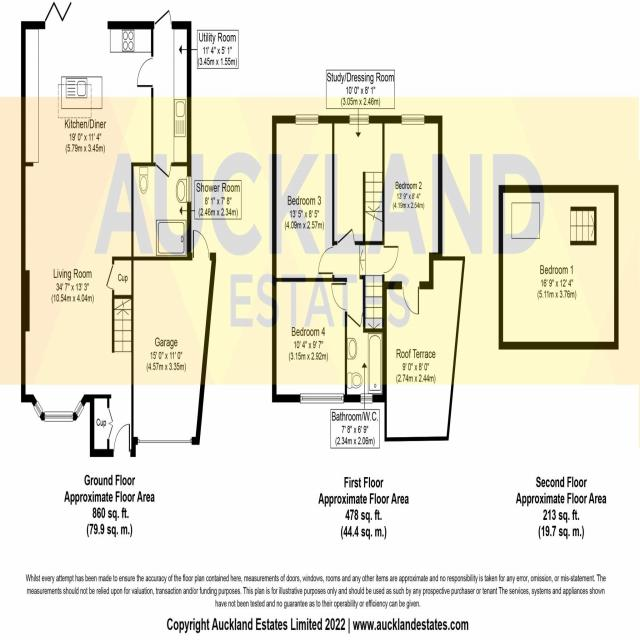DOOR: (112, 422, 131, 458), (401, 280, 420, 316), (381, 244, 400, 276), (136, 55, 154, 88), (192, 229, 210, 261), (330, 281, 348, 313), (317, 245, 335, 277), (154, 8, 173, 30), (336, 227, 356, 246), (154, 162, 172, 180), (346, 311, 363, 330)
FOLDING DOOR: (42, 0, 108, 32)
ROOM: (20, 0, 154, 458), (497, 183, 619, 350), (381, 114, 443, 316), (272, 114, 334, 283), (272, 277, 348, 405), (332, 114, 385, 246)
WINDOW: (299, 393, 344, 405), (44, 411, 73, 422), (401, 113, 425, 126), (295, 114, 319, 126), (349, 114, 370, 126), (33, 399, 44, 418), (74, 400, 84, 418), (186, 176, 192, 203), (360, 392, 373, 404)
